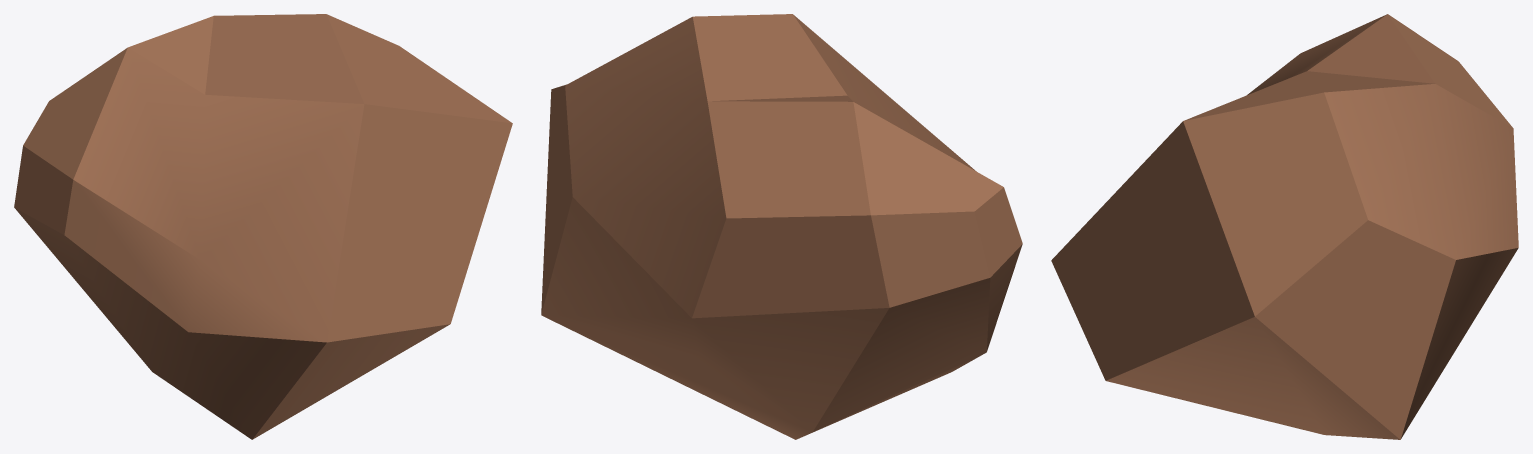
The model's file is rock_small_4.fbx.
3 views of the same model, side by side, from view 1: azimuth 30°, elevation 25°; view 2: azimuth 150°, elevation 25°; view 3: azimuth 270°, elevation 25° (orthographic). The views are drawn at different scales.
Visible parts, largest first — view 1: Retopo_Rock generator addon.025; view 2: Retopo_Rock generator addon.025; view 3: Retopo_Rock generator addon.025.
Part boxes in pixels (x1,y1,x2,y2): Retopo_Rock generator addon.025: (14,14,512,439); Retopo_Rock generator addon.025: (541,14,1022,439); Retopo_Rock generator addon.025: (1051,14,1518,439).
Size of the model in its own units: 9.24 by 6.99 by 7.56.
